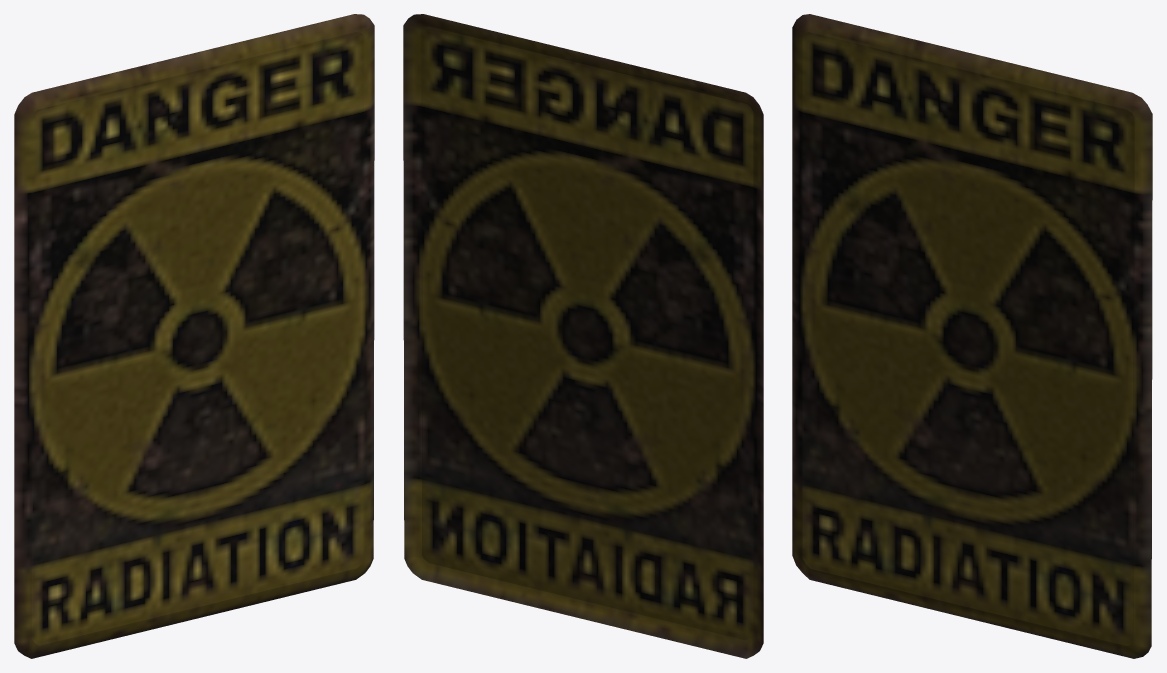
Rendered from sign_4.dae.
3 views of the same model, side by side, from view 1: azimuth 30°, elevation 25°; view 2: azimuth 150°, elevation 25°; view 3: azimuth 330°, elevation 25° (orthographic).
Visible parts, largest first — view 1: sign_4; view 2: sign_4; view 3: sign_4.
Part boxes in pixels (left/top/right/bottom): sign_4: left=14, top=14, right=374, bottom=658; sign_4: left=403, top=14, right=763, bottom=658; sign_4: left=792, top=14, right=1152, bottom=658.
Bounding box in the file's own units: 0.2244 × 0.004 × 0.3368.
1 material, 1 textured.
